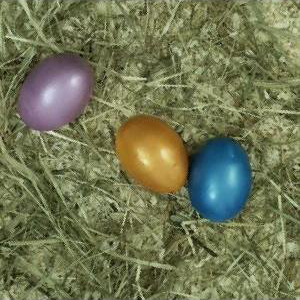egg: (113, 115, 189, 195), (18, 54, 92, 131), (189, 137, 253, 222)
